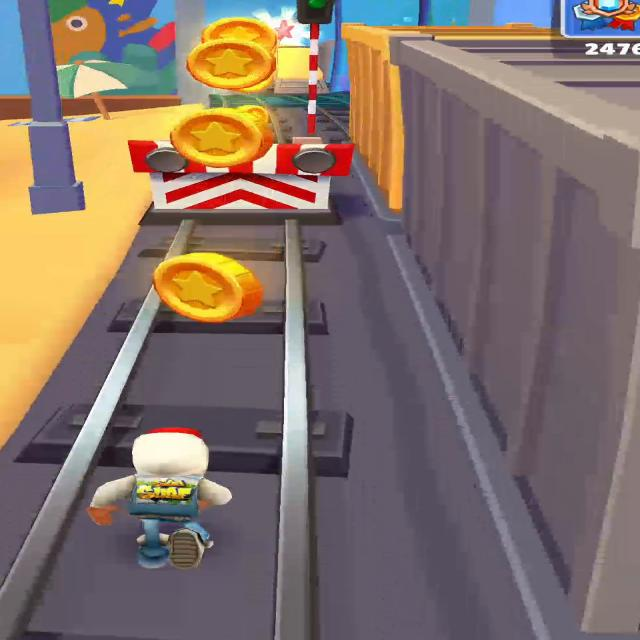climber: (273, 46, 309, 95), (317, 71, 325, 92)
roll blocker: (128, 140, 352, 225)
train: (347, 40, 630, 550), (342, 23, 431, 211), (435, 27, 516, 39)
